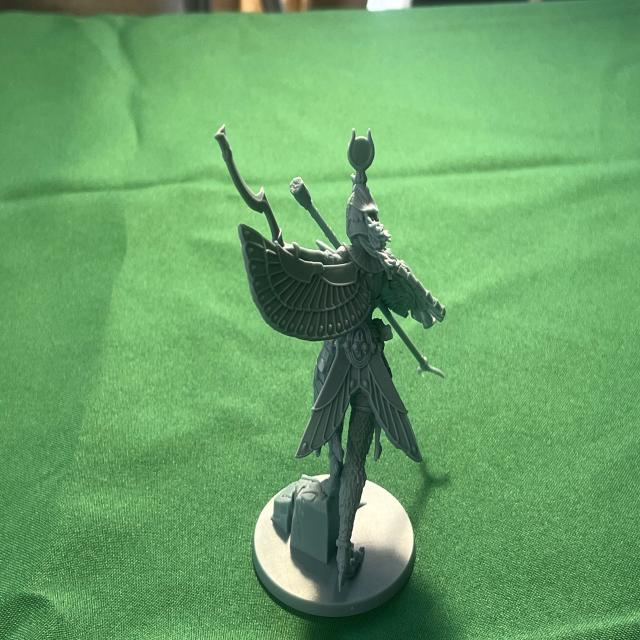isis: (206, 114, 452, 628)
